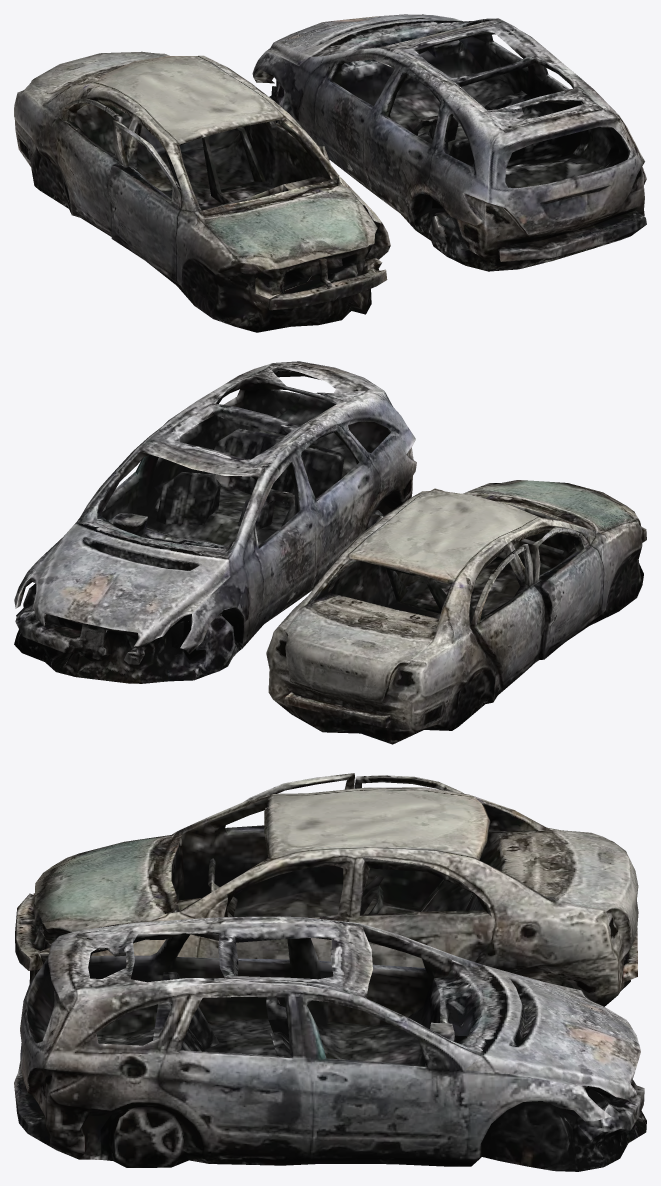
Rendered from burned_cars.glb.
3 renders of one model, top to bottom at view 1: azimuth 30°, elevation 25°; view 2: azimuth 150°, elevation 25°; view 3: azimuth 270°, elevation 25°, orthographic. The views are drawn at different scales.
Parts seen in each view (by area): view 1: default002_Material #26_0, default001_Material #25_0; view 2: default001_Material #25_0, default002_Material #26_0; view 3: default001_Material #25_0, default002_Material #26_0.
Boxes of the visible parts, x1,y1,x2,y2 form: default002_Material #26_0: [14, 51, 390, 332]; default001_Material #25_0: [252, 14, 646, 271]; default001_Material #25_0: [14, 361, 416, 683]; default002_Material #26_0: [266, 480, 646, 744]; default001_Material #25_0: [14, 916, 646, 1171]; default002_Material #26_0: [15, 773, 638, 1006].
Bounding box in the file's own units: 282 × 86.62 × 295.
2 materials, 2 textured.
